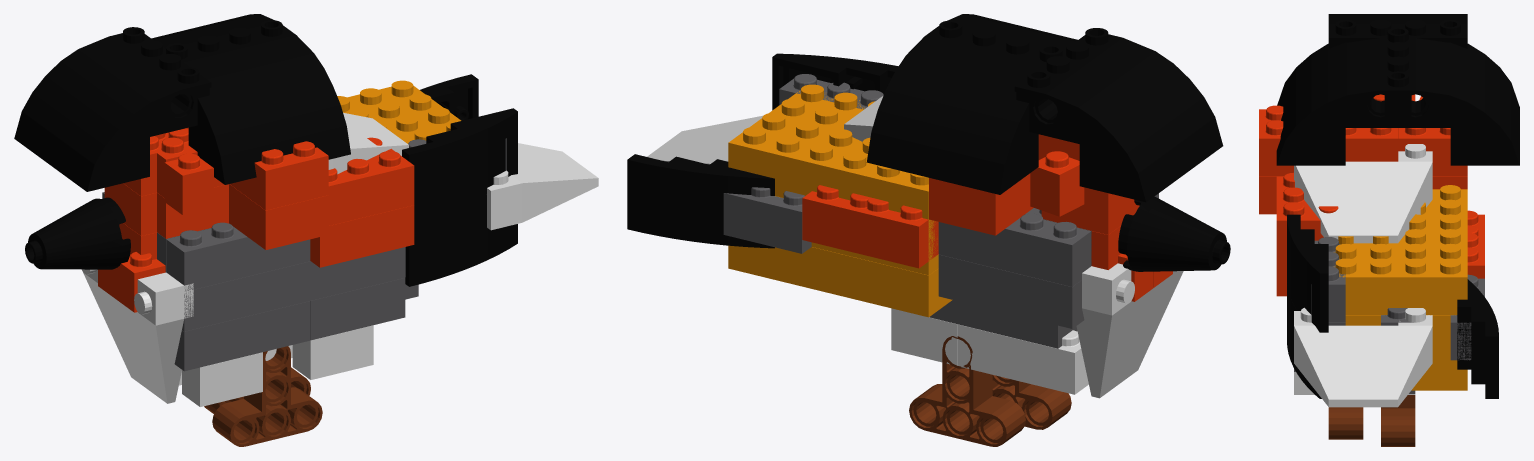
File: Finch.dae
3 renders of one model, left to right at view 1: azimuth 30°, elevation 25°; view 2: azimuth 150°, elevation 25°; view 3: azimuth 270°, elevation 25°, orthographic. The views are drawn at different scales.
Visible parts, largest first — view 1: Part.83, Part.82, Part.81, Part.9, Part.33, Part.21, Part.62, Part.0, Part.79, Part.18, Part.20, Part.67 (+20 smaller); view 2: Part.83, Part.84, Part.74, Part.34, Part.9, Part.75, Part.36, Part.1, Part.79, Part.35, Part.48, Part.65 (+18 smaller); view 3: Part.82, Part.84, Part.74, Part.62, Part.78, Part.81, Part.34, Part.83, Part.76, Part.77, Part.67, Part.1 (+14 smaller).
Boxes of the visible parts, bbox=[...] form: Part.83: bbox=[14, 27, 211, 191]; Part.82: bbox=[158, 20, 350, 184]; Part.81: bbox=[402, 108, 517, 219]; Part.9: bbox=[81, 269, 193, 403]; Part.33: bbox=[405, 194, 517, 286]; Part.21: bbox=[166, 222, 310, 291]; Part.62: bbox=[487, 143, 598, 230]; Part.0: bbox=[212, 346, 322, 446]; Part.79: bbox=[25, 197, 130, 269]; Part.18: bbox=[174, 301, 310, 371]; Part.20: bbox=[182, 261, 310, 331]; Part.67: bbox=[230, 141, 328, 210]; Part.83: bbox=[1014, 28, 1223, 202]; Part.84: bbox=[866, 21, 1069, 194]; Part.74: bbox=[728, 84, 935, 232]; Part.34: bbox=[627, 154, 774, 248]; Part.9: bbox=[1076, 263, 1183, 398]; Part.75: bbox=[728, 245, 952, 317]; Part.36: bbox=[938, 213, 1091, 286]; Part.1: bbox=[909, 336, 1025, 446]; Part.79: bbox=[1118, 196, 1230, 271]; Part.35: bbox=[938, 254, 1084, 328]; Part.48: bbox=[852, 197, 938, 268]; Part.65: bbox=[723, 187, 811, 253]; Part.82: bbox=[1276, 27, 1413, 165]; Part.84: bbox=[1383, 27, 1519, 165]; Part.74: bbox=[1334, 185, 1467, 314]; Part.62: bbox=[1294, 307, 1432, 407]; Part.78: bbox=[1294, 144, 1432, 243]; Part.81: bbox=[1287, 214, 1328, 332]; Part.34: bbox=[1457, 279, 1498, 398]; Part.83: bbox=[1328, 14, 1467, 48]; Part.76: bbox=[1345, 128, 1397, 161]; Part.77: bbox=[1398, 128, 1467, 176]; Part.67: bbox=[1259, 105, 1293, 176]; Part.1: bbox=[1381, 395, 1415, 446].
Size of the model in its own units: 137 by 91.9 by 59.92.
